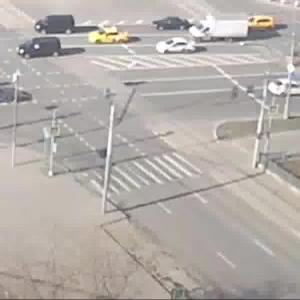car: (190, 14, 245, 45), (13, 36, 73, 60), (34, 13, 84, 36), (89, 26, 131, 48), (245, 14, 279, 36), (4, 88, 39, 106), (154, 18, 190, 35), (269, 81, 300, 100), (158, 41, 190, 56)
